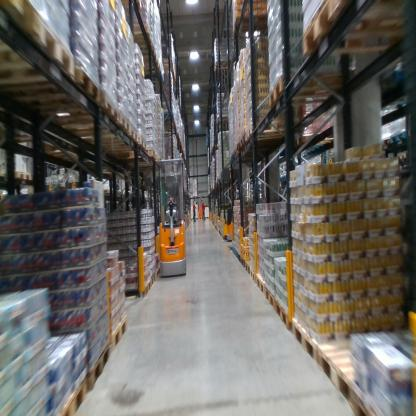pallet: (298, 3, 413, 62), (3, 2, 76, 89), (315, 335, 407, 403), (4, 63, 105, 104), (264, 72, 365, 107), (43, 92, 119, 128), (61, 107, 130, 138), (352, 383, 415, 415), (245, 119, 305, 147), (291, 313, 318, 364), (91, 336, 114, 395), (56, 377, 88, 415), (239, 127, 287, 148), (232, 14, 270, 40), (98, 134, 148, 151), (111, 314, 129, 359), (274, 298, 295, 336), (126, 20, 155, 47), (92, 129, 138, 145), (120, 279, 152, 299), (12, 168, 33, 183), (214, 58, 234, 73), (265, 281, 276, 308), (215, 114, 230, 126), (249, 265, 258, 284), (245, 260, 255, 276), (148, 271, 157, 288), (257, 274, 265, 293), (155, 262, 161, 278)
pallet_truck: (156, 138, 185, 282)
